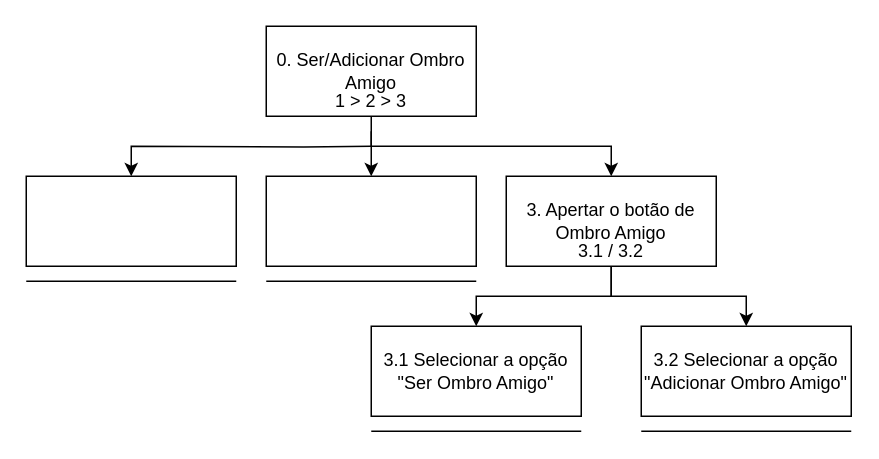
This 879x459 diagram has some shape labels left out. Each missing label, with the centre of its shape:
1. Abrir Aplicativo: (x=130, y=220)
2. Rolar para a Funcionalidade Ombro Amigo: (x=370, y=220)
